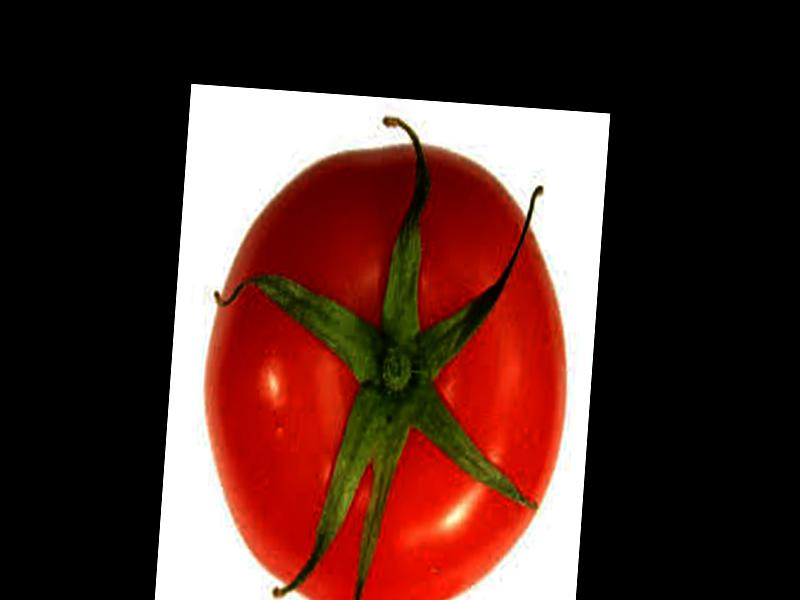Tomato: (191, 131, 582, 600)
